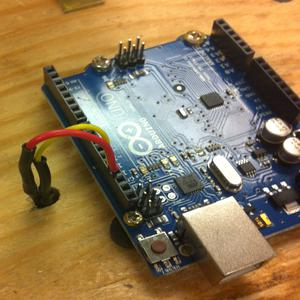duino: (52, 16, 300, 282)
